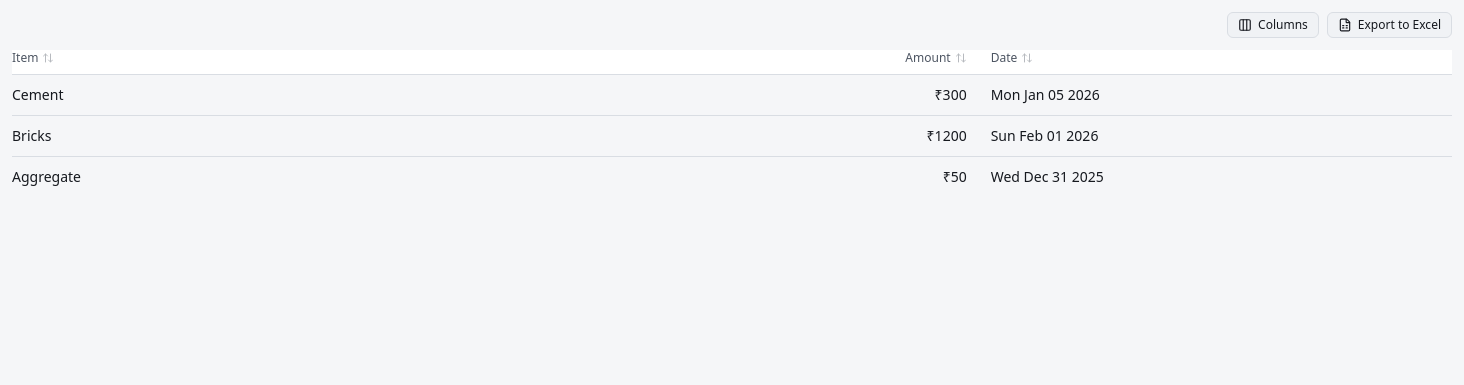
Test: data grid layout › hides a column and keeps it hidden
Later steps or results of the test are not shown.
Click the button "Columns". click: click(1273, 25)
box: [1227,12,1319,38]
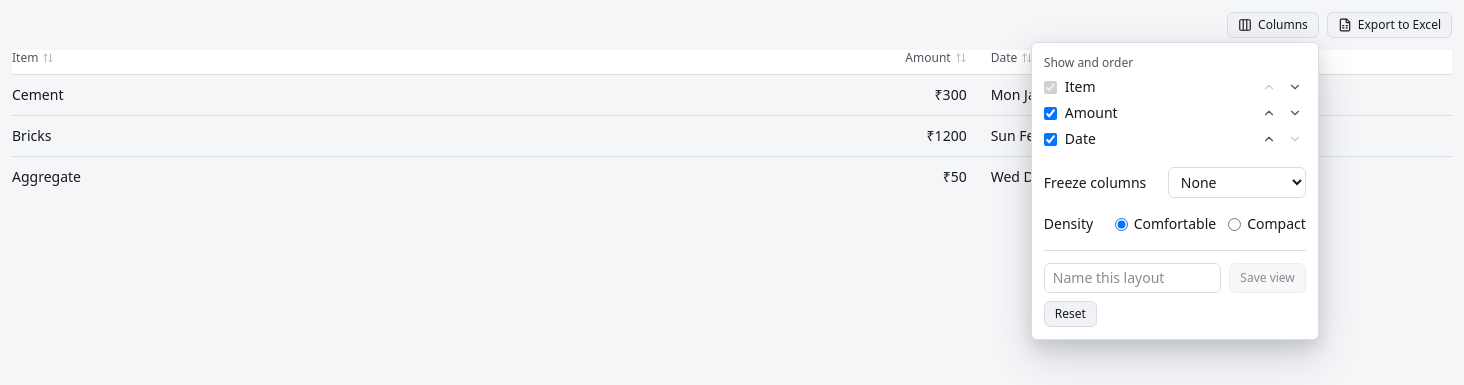
Now the checkbox labelled "Item" is disabled, box [1044,80,1057,94]
